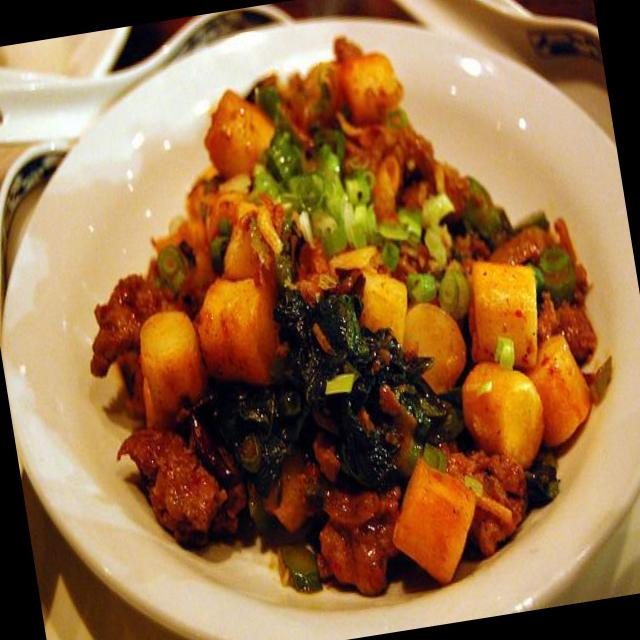bowl: (0, 0, 640, 640)
broccoli: (196, 280, 414, 470), (327, 403, 401, 490)
carrot: (379, 458, 488, 594), (188, 264, 292, 392), (455, 348, 554, 475), (458, 251, 549, 378), (518, 328, 602, 451), (196, 83, 285, 192), (133, 311, 215, 424), (352, 267, 418, 357), (338, 51, 408, 125), (216, 224, 262, 282)
spoon: (0, 2, 309, 158)
